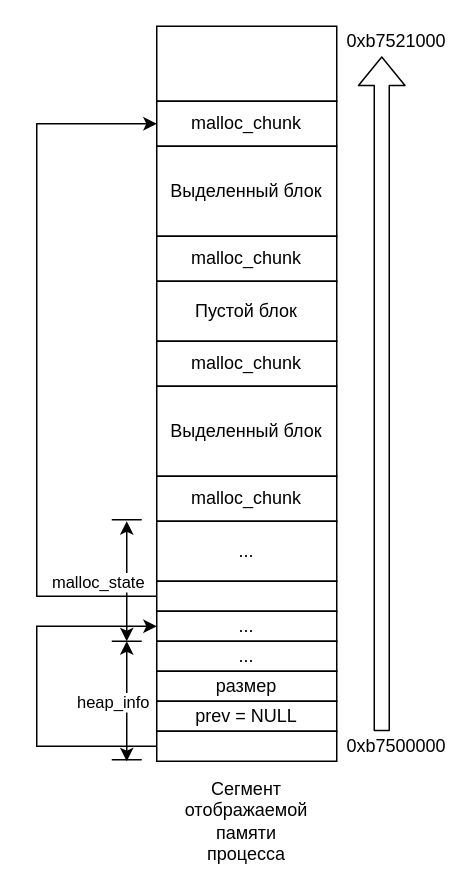
This 473x891 diagram has some shape labels left out. Each missing label, with the centre of its shape:
"ar_ptr" belongs at [246,745].
"верх" belongs at [246,595].
"Верхний блок" belongs at [246,63].
